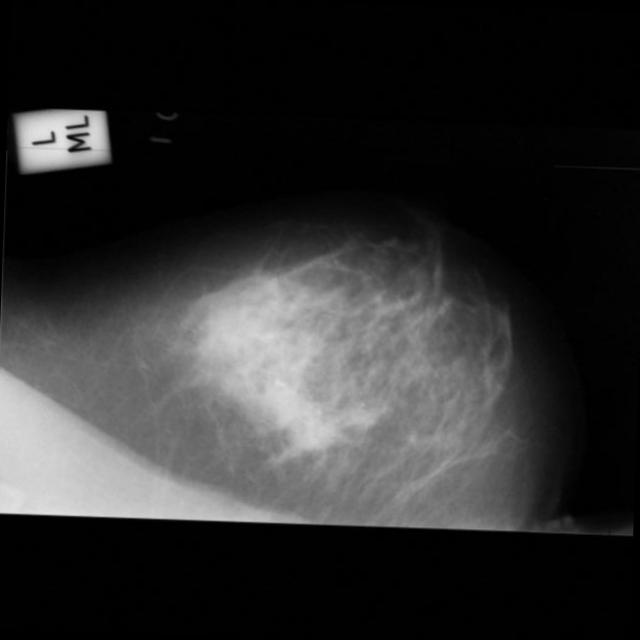CALC: (266, 348, 379, 461)
